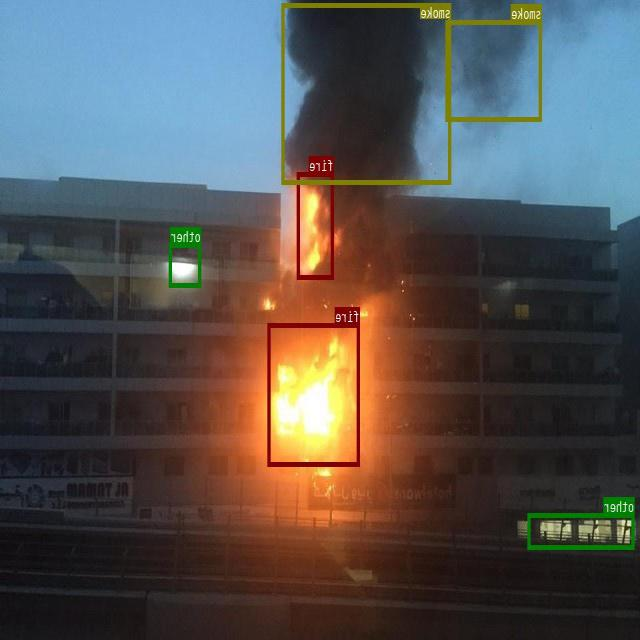fire: (269, 322, 360, 466), (298, 172, 334, 278)
other: (528, 513, 635, 548), (170, 242, 202, 287)
smoke: (282, 2, 452, 184), (446, 20, 542, 120)
